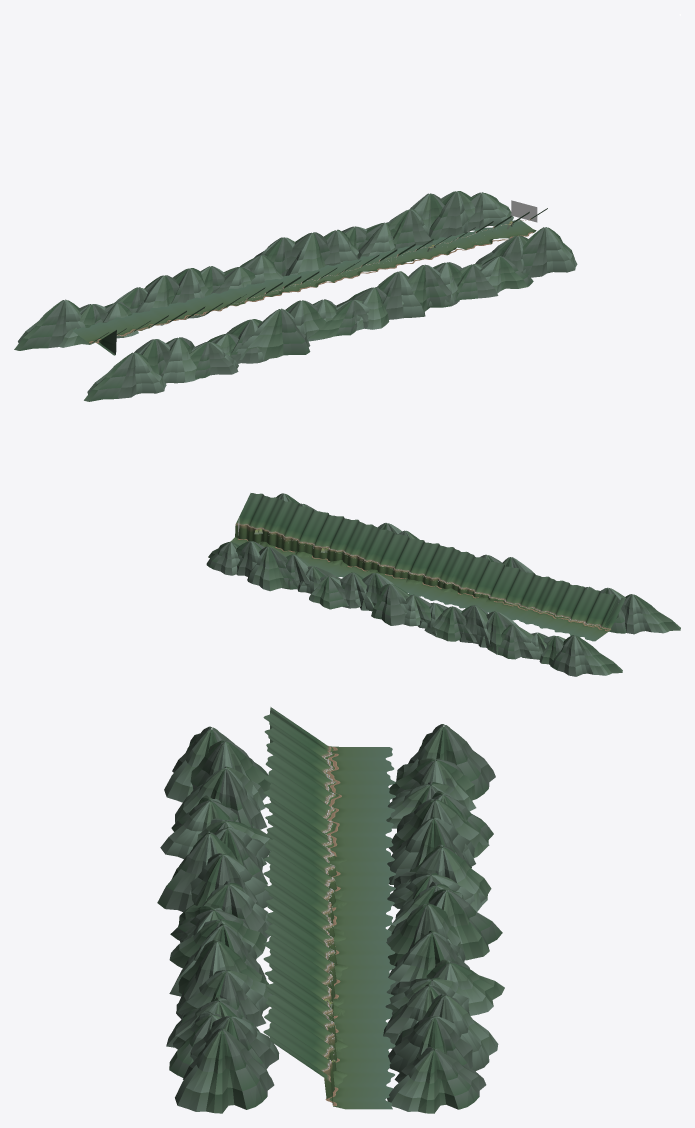
File: machupicchu.glb
3 renders of one model, top to bottom at view 1: azimuth 30°, elevation 25°; view 2: azimuth 150°, elevation 25°; view 3: azimuth 270°, elevation 25°, orthographic. The views are drawn at different scales.
Visible parts, largest first — view 1: Peaks, Sea; view 2: Peaks, VilcanotaForest_041, VilcanotaForest_045, VilcanotaForest_039, VilcanotaForest_029, VilcanotaForest_033, VilcanotaForest_031, VilcanotaForest_001, VilcanotaForest_043, VilcanotaForest_023, VilcanotaForest_019, VilcanotaForest_021 (+15 smaller); view 3: Peaks, VilcanotaForest_045, VilcanotaForest_023, VilcanotaForest_011, VilcanotaForest_007, VilcanotaForest_034, VilcanotaForest_018, VilcanotaForest_033, VilcanotaForest_001, VilcanotaForest_042, VilcanotaForest_024, VilcanotaForest_041 (+37 smaller).
Boxes of the visible parts, x1=… form: Peaks: x1=14, y1=191, x2=577, y2=401; Sea: x1=89, y1=232, x2=533, y2=343; Peaks: x1=206, y1=493, x2=680, y2=676; VilcanotaForest_041: x1=272, y1=500, x2=299, y2=550; VilcanotaForest_045: x1=239, y1=493, x2=267, y2=545; VilcanotaForest_039: x1=289, y1=506, x2=317, y2=553; VilcanotaForest_029: x1=368, y1=529, x2=395, y2=573; VilcanotaForest_033: x1=330, y1=519, x2=363, y2=573; VilcanotaForest_031: x1=352, y1=523, x2=379, y2=570; VilcanotaForest_001: x1=583, y1=593, x2=620, y2=638; VilcanotaForest_043: x1=256, y1=497, x2=283, y2=546; VilcanotaForest_023: x1=407, y1=543, x2=444, y2=593; VilcanotaForest_019: x1=448, y1=551, x2=474, y2=593; VilcanotaForest_021: x1=424, y1=546, x2=459, y2=597; Peaks: x1=157, y1=724, x2=504, y2=1113; VilcanotaForest_045: x1=263, y1=1024, x2=389, y2=1101; VilcanotaForest_023: x1=263, y1=866, x2=389, y2=929; VilcanotaForest_011: x1=263, y1=786, x2=391, y2=835; VilcanotaForest_007: x1=265, y1=755, x2=341, y2=805; VilcanotaForest_034: x1=315, y1=981, x2=392, y2=1022; VilcanotaForest_018: x1=273, y1=838, x2=395, y2=896; VilcanotaForest_033: x1=263, y1=937, x2=390, y2=1006; VilcanotaForest_001: x1=263, y1=713, x2=390, y2=760; VilcanotaForest_042: x1=315, y1=1038, x2=394, y2=1082; VilcanotaForest_024: x1=315, y1=910, x2=391, y2=944; VilcanotaForest_041: x1=265, y1=995, x2=341, y2=1069.
Bounding box in the file's own units: 15216 × 2995 × 4301.
